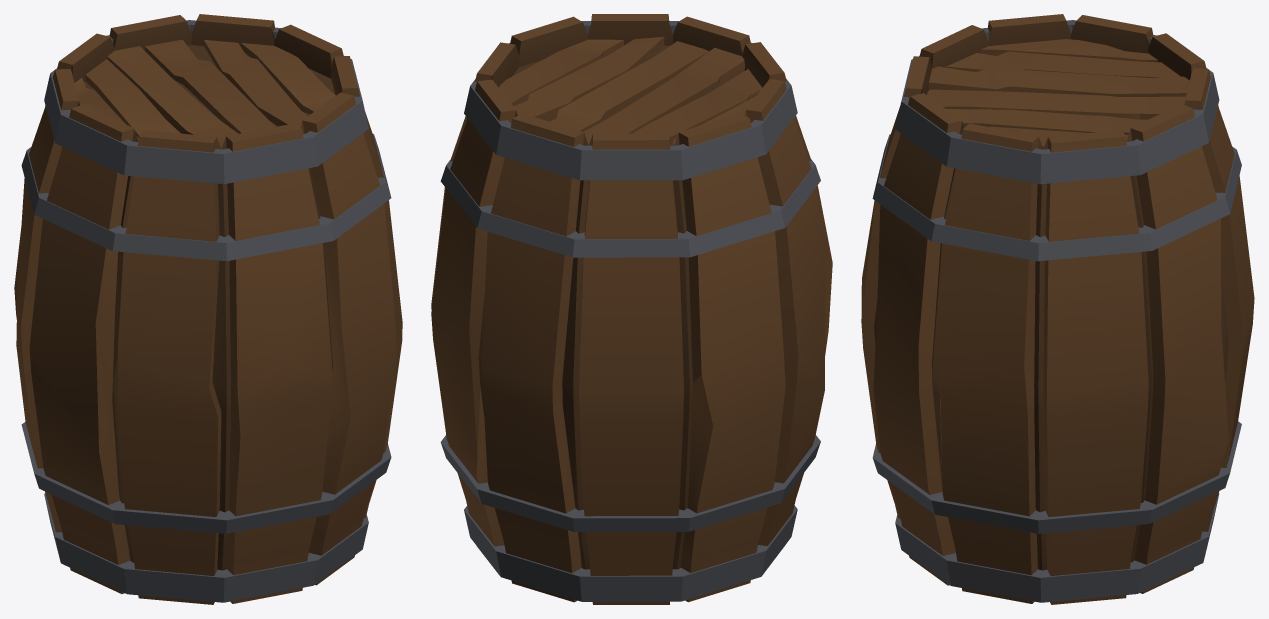
File: barrel-D1vyQQ_o.glb
3 views of the same model, side by side, from view 1: azimuth 30°, elevation 25°; view 2: azimuth 150°, elevation 25°; view 3: azimuth 270°, elevation 25° (orthographic).
Visible parts, largest first — view 1: Barrel; view 2: Barrel; view 3: Barrel.
Boxes of the visible parts, x1,y1,x2,y2 form: Barrel: (14,14,402,604); Barrel: (431,14,832,604); Barrel: (861,14,1254,604).
Size of the model in its own units: 0.1582 by 0.2043 by 0.1568.
